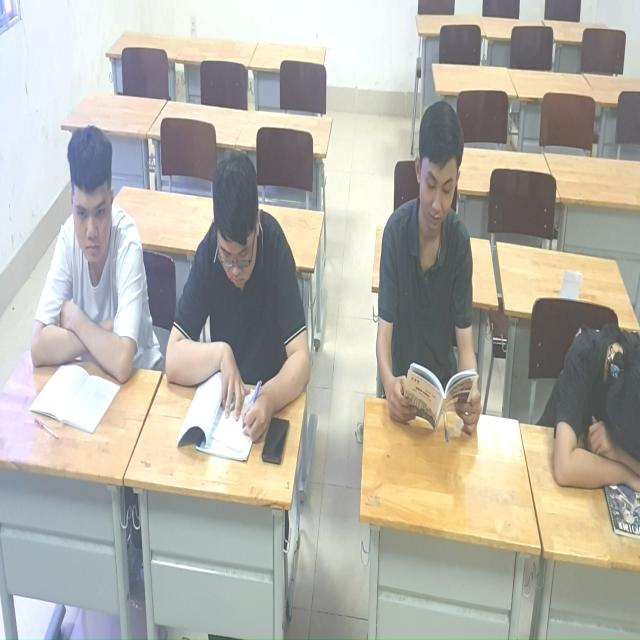read: (152, 139, 312, 457), (359, 86, 487, 470), (29, 121, 146, 428)
sleep: (541, 295, 640, 524)
